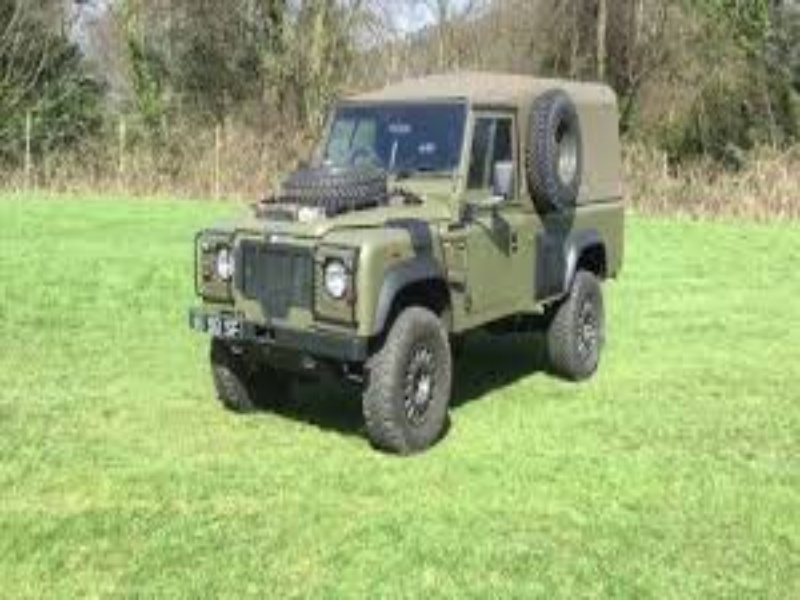jeep: (191, 67, 629, 455)
